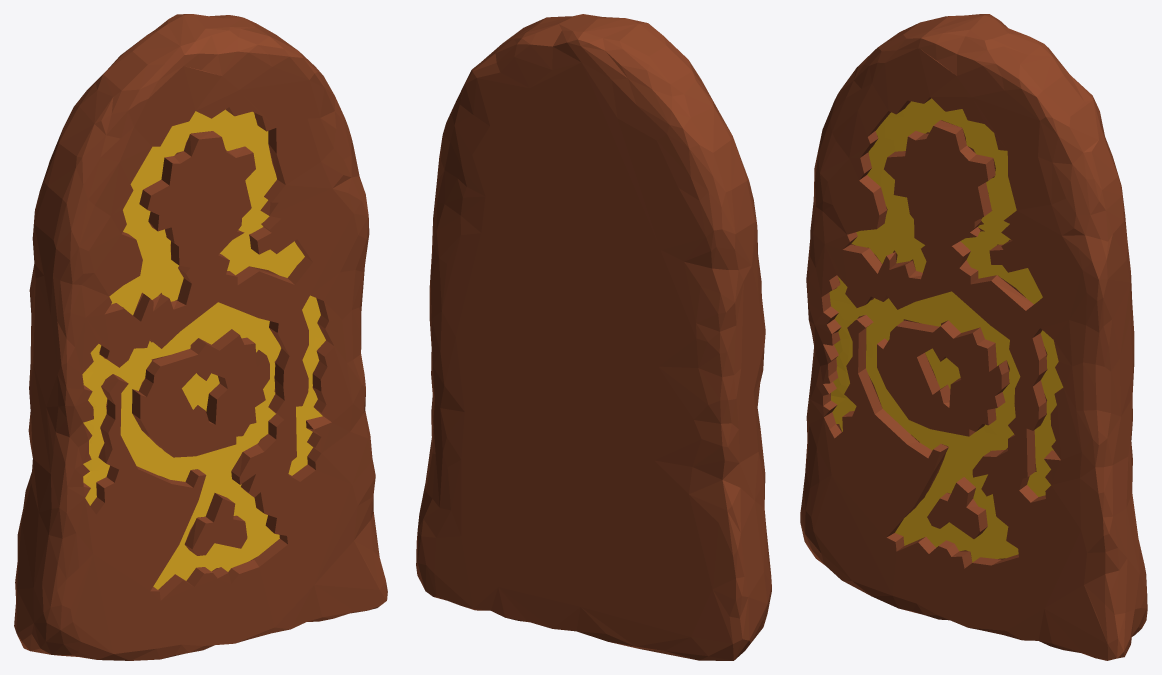
The model's file is tombstone.fbx.
The picture shows the model from 3 angles, left to right: view 1: azimuth 30°, elevation 25°; view 2: azimuth 150°, elevation 25°; view 3: azimuth 330°, elevation 25°; orthographic projection. The views are drawn at different scales.
Parts seen in each view (by area): view 1: Cylinder.001; view 2: Cylinder.001; view 3: Cylinder.001.
Boxes of the visible parts, x1,y1,x2,y2 form: Cylinder.001: [14, 14, 387, 660]; Cylinder.001: [416, 14, 771, 660]; Cylinder.001: [800, 14, 1147, 660].
Bounding box in the file's own units: 1336 × 2264 × 279.
